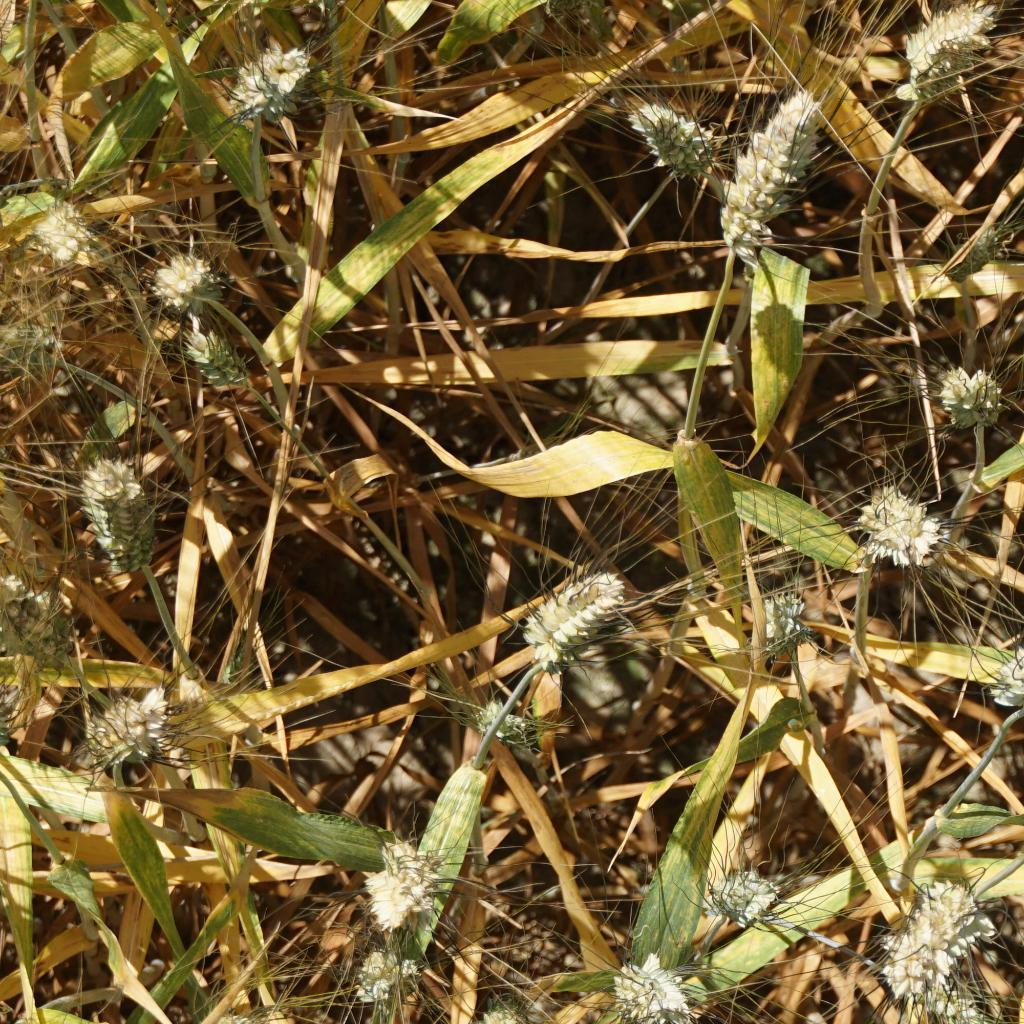0-0: (704, 85, 823, 258), (883, 876, 996, 1001), (518, 559, 632, 667), (72, 456, 166, 574), (94, 677, 190, 767), (895, 0, 995, 80), (630, 95, 725, 177), (0, 574, 85, 665), (364, 840, 448, 930), (857, 482, 944, 567), (180, 320, 260, 409), (610, 943, 689, 1024), (30, 200, 103, 271), (0, 319, 65, 397), (349, 940, 419, 1008), (238, 44, 311, 108), (937, 360, 1002, 430), (713, 858, 779, 925), (151, 247, 219, 308), (920, 976, 1002, 1024), (755, 586, 811, 654), (996, 618, 1024, 731), (196, 996, 282, 1024), (0, 669, 25, 753), (462, 994, 523, 1024)
